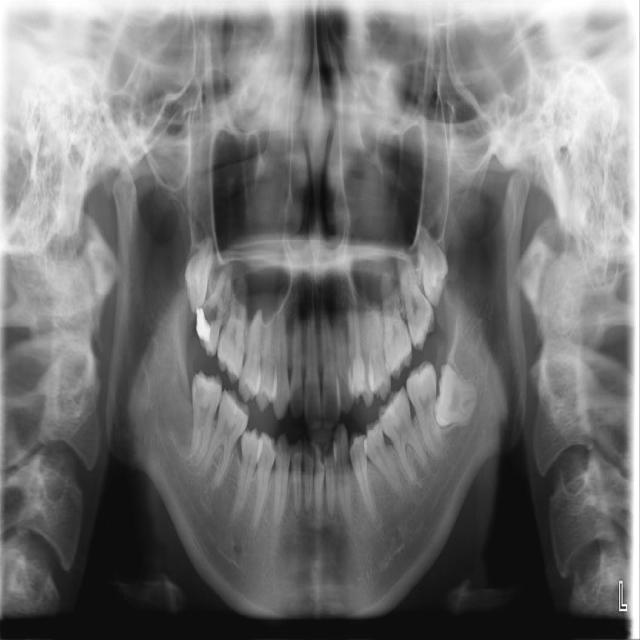Caries: (202, 304, 218, 327)
Filling: (195, 304, 215, 347)
impacted tooth: (434, 364, 482, 429), (414, 221, 449, 303), (184, 224, 213, 310)
